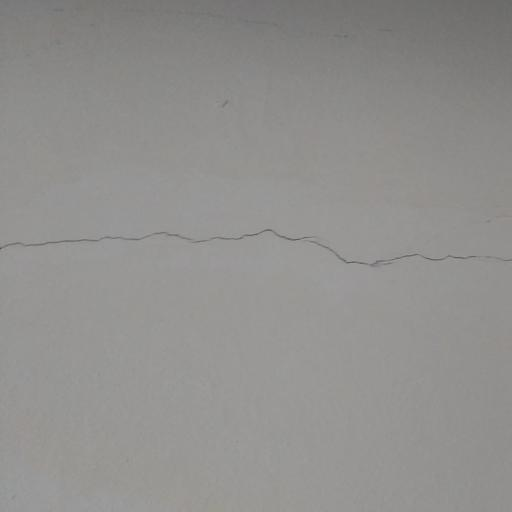minor_crack: (0, 218, 512, 271)
